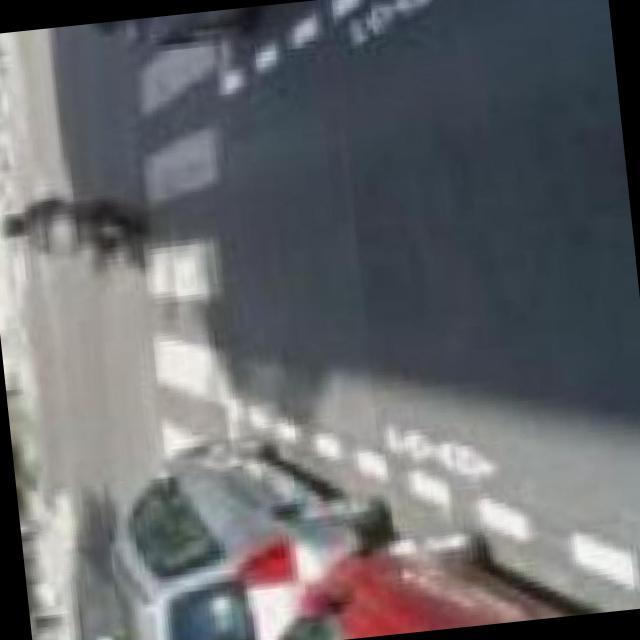zebra: (122, 19, 255, 491)
